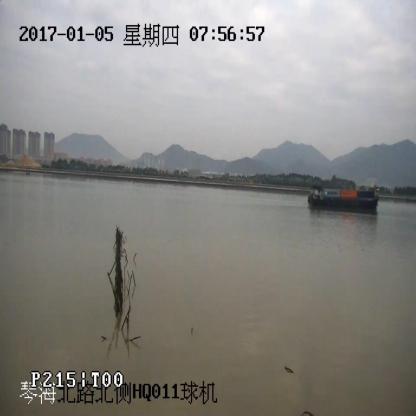Container Ship: (307, 186, 379, 209)
